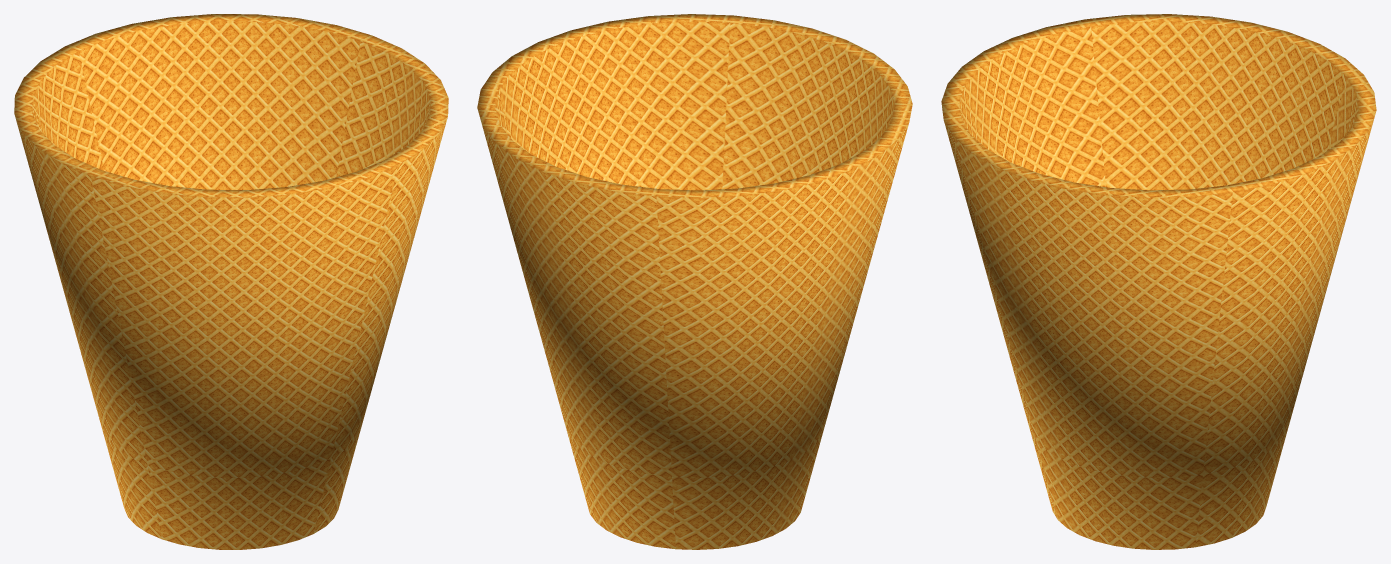
Rendered from casca.glb.
3 views of the same model, side by side, from view 1: azimuth 30°, elevation 25°; view 2: azimuth 150°, elevation 25°; view 3: azimuth 270°, elevation 25° (orthographic).
Parts seen in each view (by area): view 1: Cube.050; view 2: Cube.050; view 3: Cube.050.
Boxes of the visible parts, x1=… form: Cube.050: x1=14, y1=14, x2=448, y2=549; Cube.050: x1=477, y1=14, x2=912, y2=549; Cube.050: x1=941, y1=14, x2=1376, y2=549.
Bounding box in the file's own units: 0.1798 × 0.1818 × 0.1798.
Materials: 1 (1 with a texture image).
